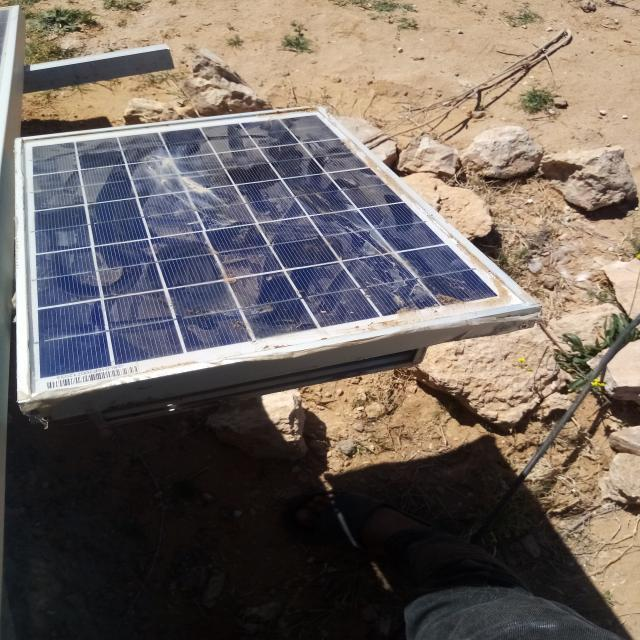faulty: (18, 108, 533, 409)
